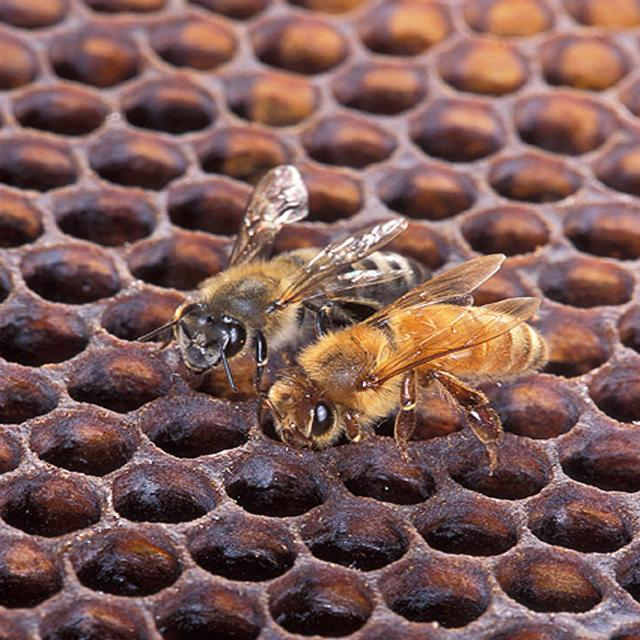Allodapula: (150, 170, 460, 370)
